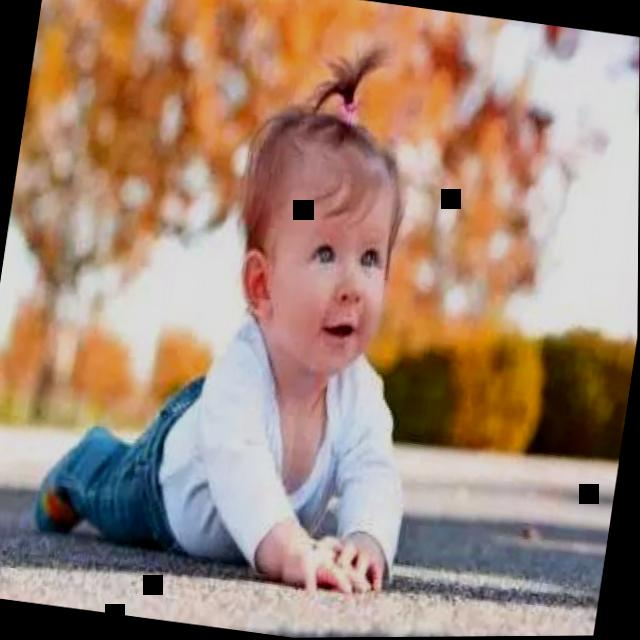Fall-Detected: (0, 0, 497, 614)
